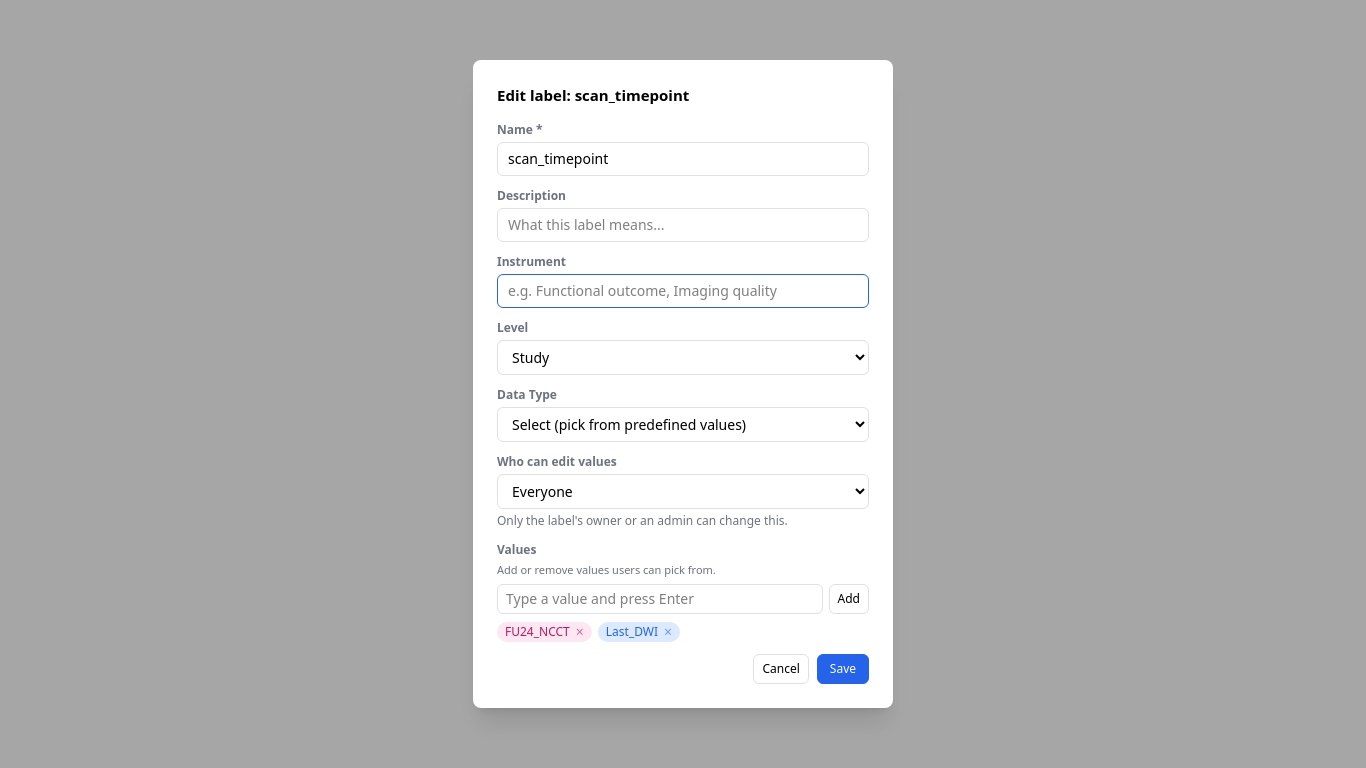
it: LabelDefModal › removing an unused value needs no confirmation
The image size is (1366, 768).
Expected: the text "FU24_NCCT" is shown, [505, 623, 570, 640]
Click the button "×" next to "FU24_NCCT": (580,632) [576, 625, 584, 639]
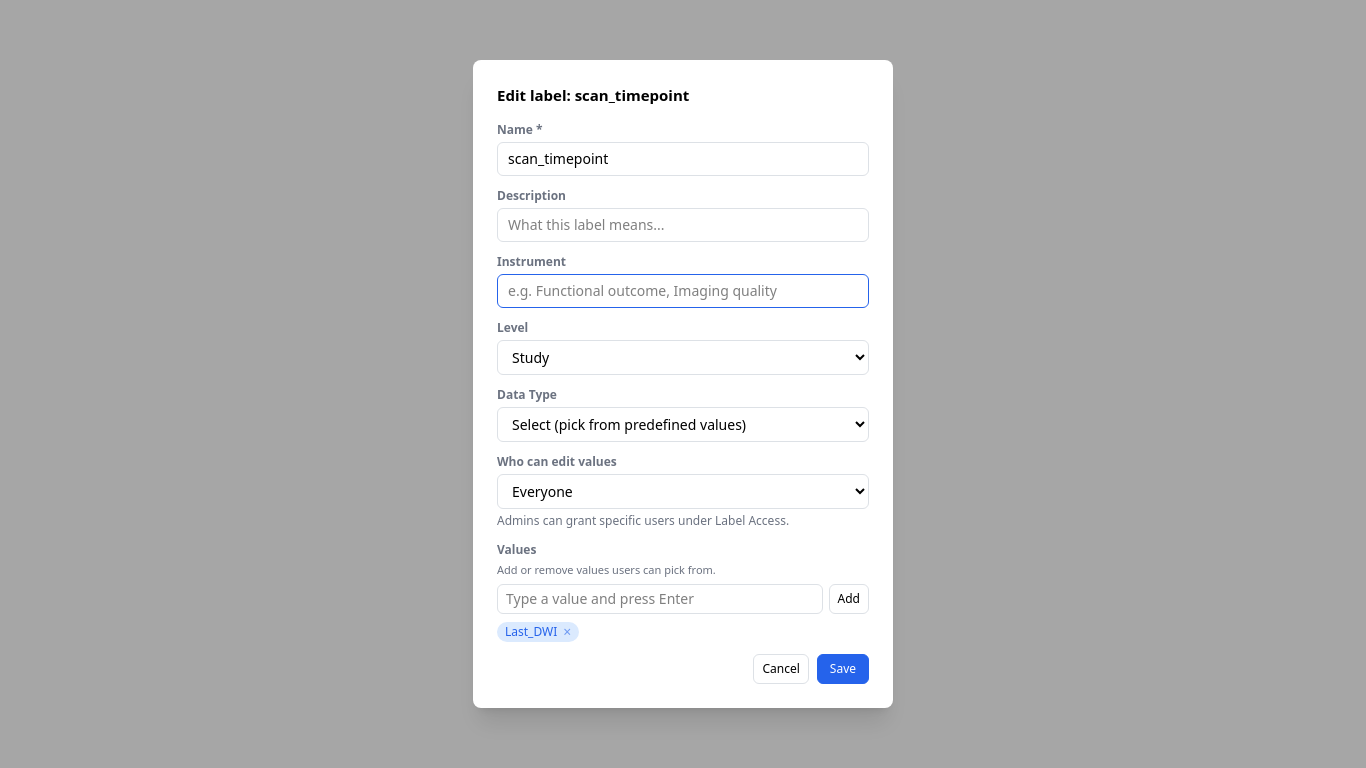
Expected: the text "FU24_NCCT" is gone
